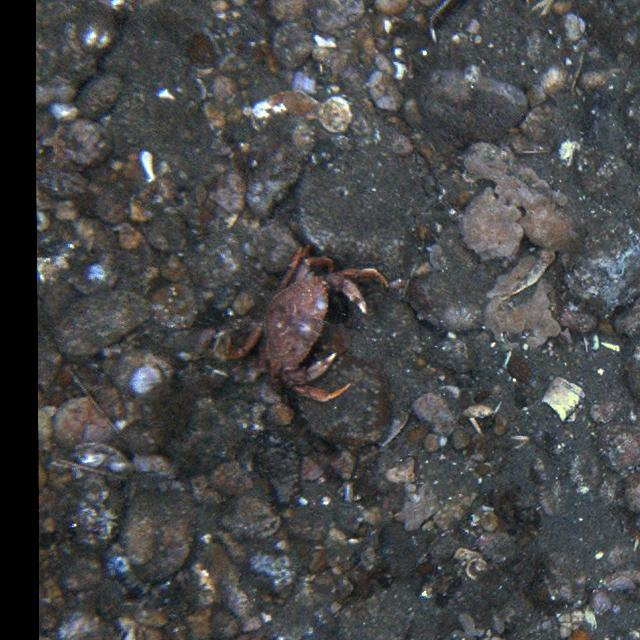crab: (230, 248, 380, 407)
